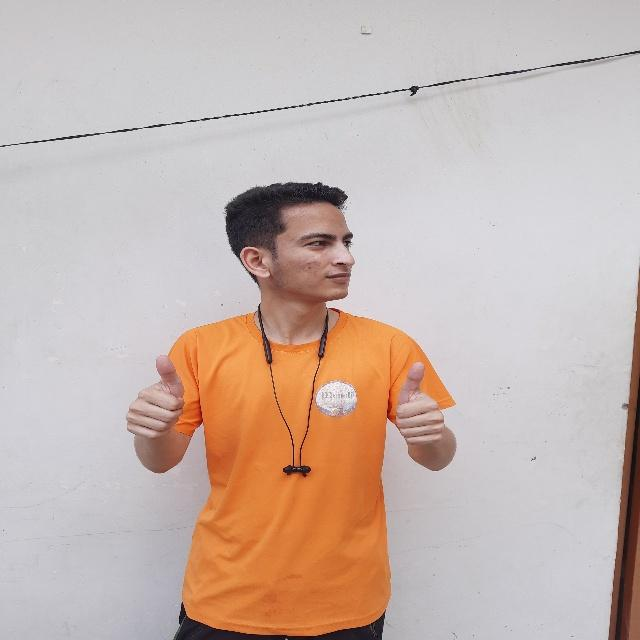Thumbs Up: (119, 352, 189, 446), (385, 357, 451, 452)
